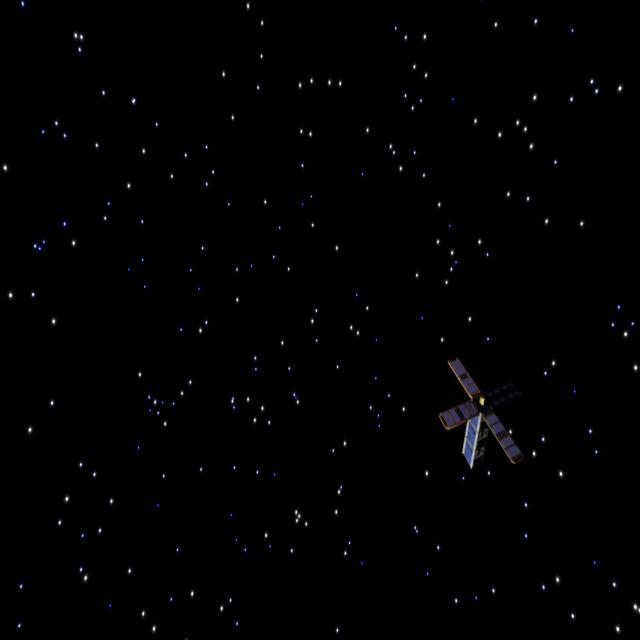medium_debris: (421, 352, 525, 486)
